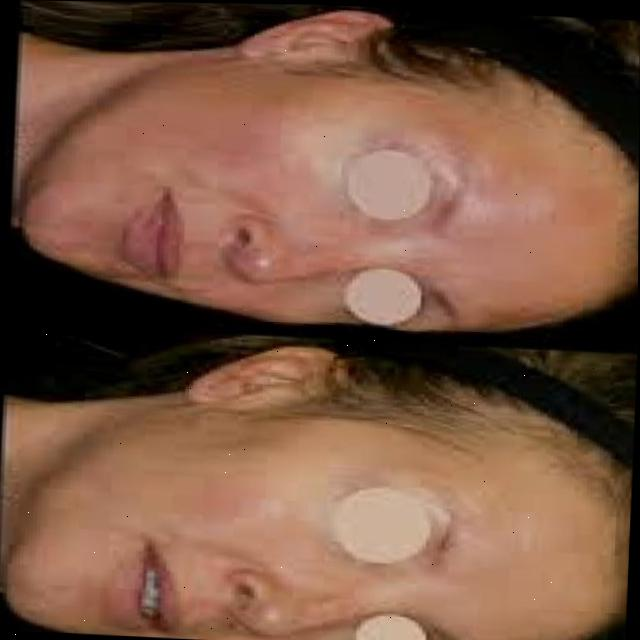Rosacea: (196, 99, 295, 197)
